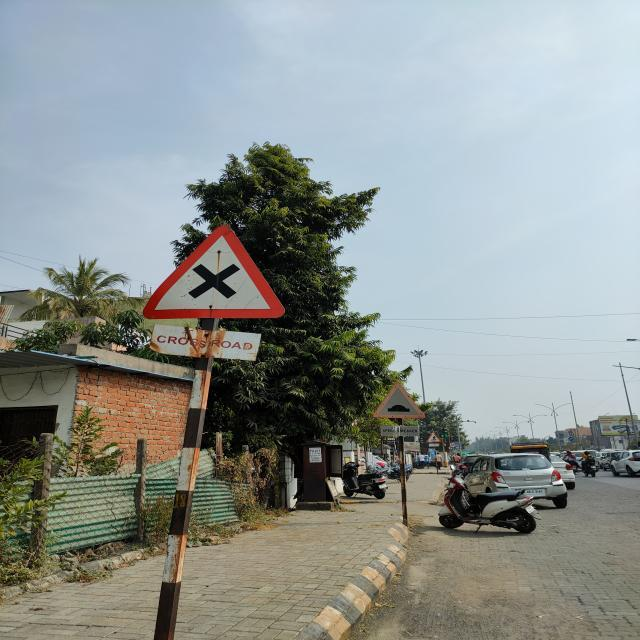cross road: (140, 221, 288, 323)
